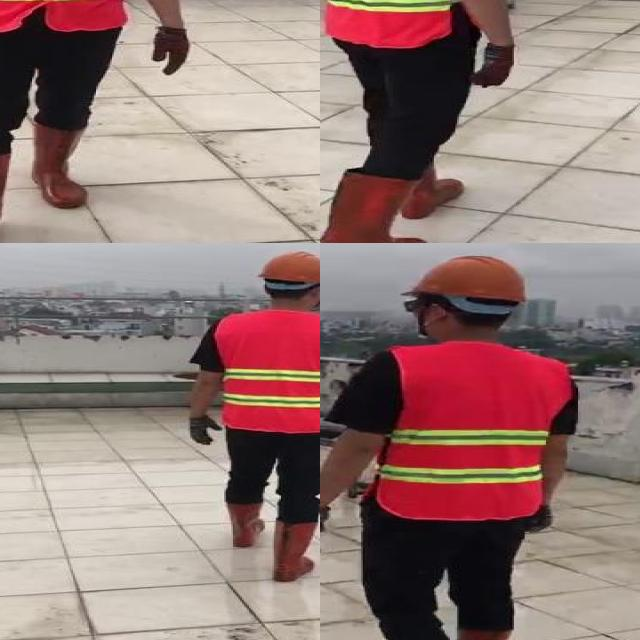boots: (320, 172, 430, 243), (30, 123, 94, 208), (272, 515, 318, 582), (404, 169, 462, 222), (222, 497, 268, 548)
hand_glove: (470, 46, 518, 87), (153, 28, 192, 75), (184, 416, 222, 443), (523, 509, 553, 538), (320, 503, 330, 551)
head_helmet: (397, 255, 539, 308), (254, 248, 320, 288)
person: (320, 254, 587, 640), (0, 0, 203, 243), (178, 243, 320, 590), (320, 0, 521, 243)
vest: (380, 341, 572, 516), (215, 311, 320, 433), (320, 0, 451, 48)
